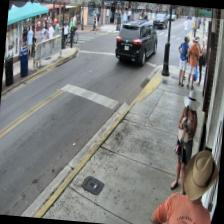person: (149, 144, 220, 224), (170, 90, 202, 196), (185, 35, 201, 89), (174, 35, 190, 87), (189, 36, 201, 82), (196, 38, 206, 86), (180, 36, 190, 79), (25, 26, 34, 60), (40, 23, 48, 51), (46, 22, 54, 50), (54, 20, 62, 46), (68, 16, 76, 40), (62, 22, 70, 44), (90, 12, 98, 32), (182, 17, 188, 36), (96, 10, 101, 30), (139, 9, 144, 28), (113, 8, 118, 26), (116, 9, 121, 26), (190, 22, 194, 40), (123, 10, 127, 26), (202, 22, 206, 38)
